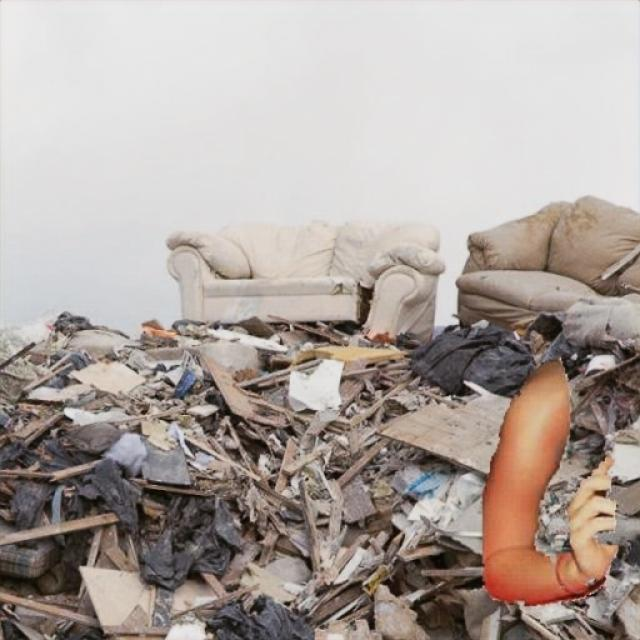Person in Rubble: (482, 357, 618, 605)
